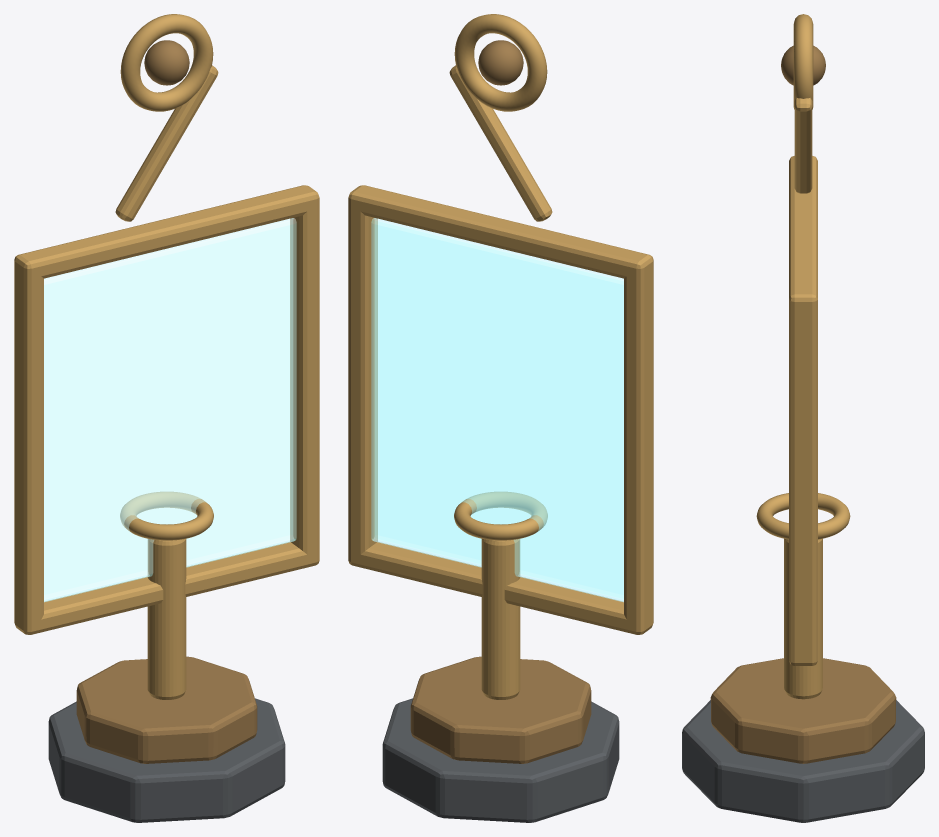
File: splitter.glb
3 views of the same model, side by side, from view 1: azimuth 30°, elevation 25°; view 2: azimuth 150°, elevation 25°; view 3: azimuth 270°, elevation 25° (orthographic).
Visible parts, largest first — view 1: Splitter; view 2: Splitter; view 3: Splitter.
Part boxes in pixels (x1,y1,x2,y2): Splitter: (14,14,319,822); Splitter: (348,14,653,822); Splitter: (682,14,924,822).
Bounding box in the file's own units: 1.05 × 2.58 × 0.7519.
